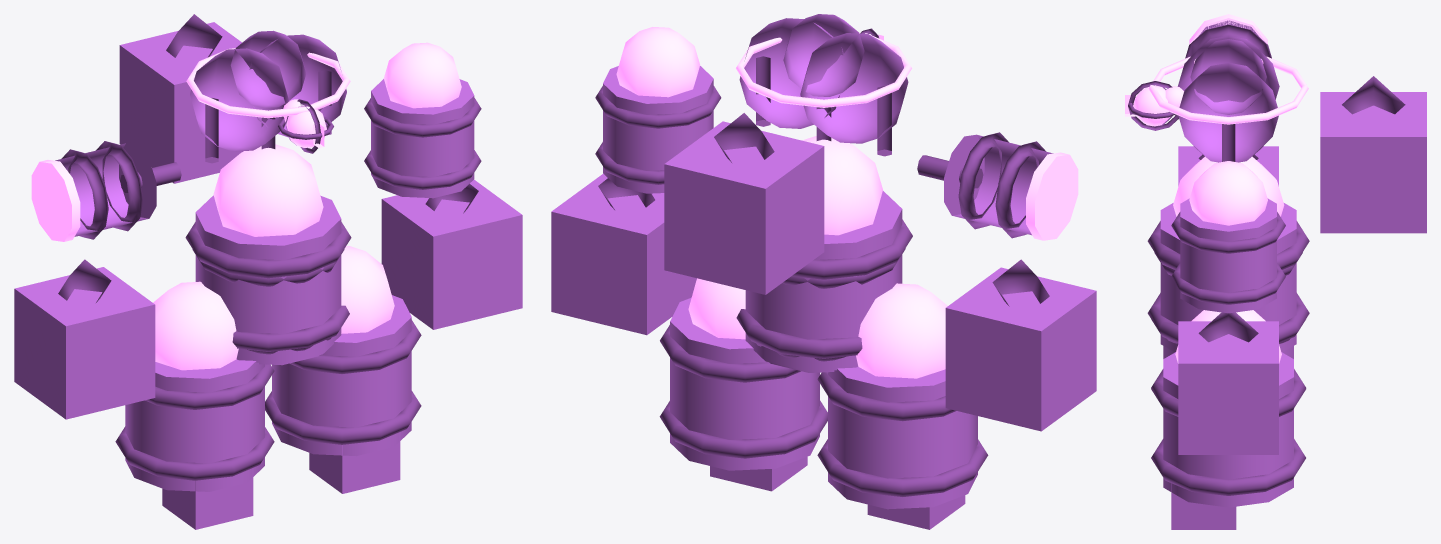
File: golem_141.glb
3 views of the same model, side by side, from view 1: azimuth 30°, elevation 25°; view 2: azimuth 150°, elevation 25°; view 3: azimuth 270°, elevation 25° (orthographic). The views are drawn at different scales.
Parts seen in each view (by area): view 1: Body, Detail, Glow; view 2: Body, Detail, Glow; view 3: Body, Detail, Glow.
Boxes of the visible parts, x1,y1,x2,y2 form: Body: (14,22,522,529); Detail: (58,14,481,480); Glow: (31,42,461,370); Body: (551,14,1096,529); Detail: (595,28,1049,496); Glow: (616,27,1078,378); Body: (1154,20,1426,529); Detail: (1128,24,1405,495); Glow: (1125,14,1308,363).
Bounding box in the file's own units: 1.19 × 1.12 × 0.6994.
